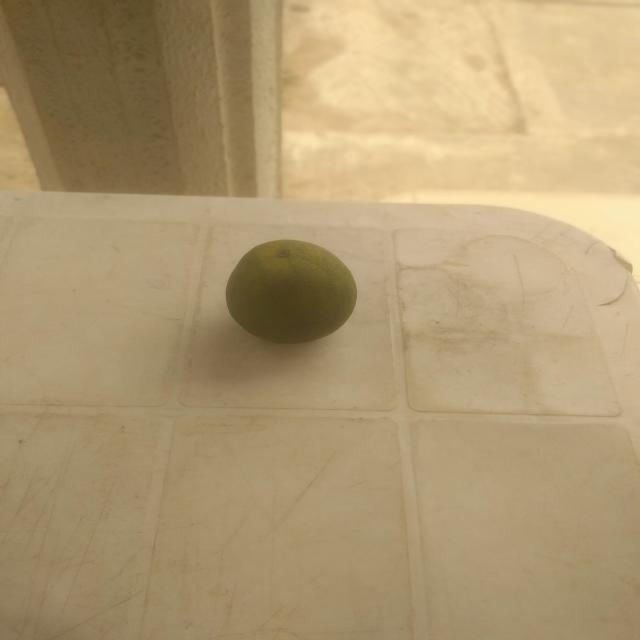agrume: (220, 229, 364, 355)
